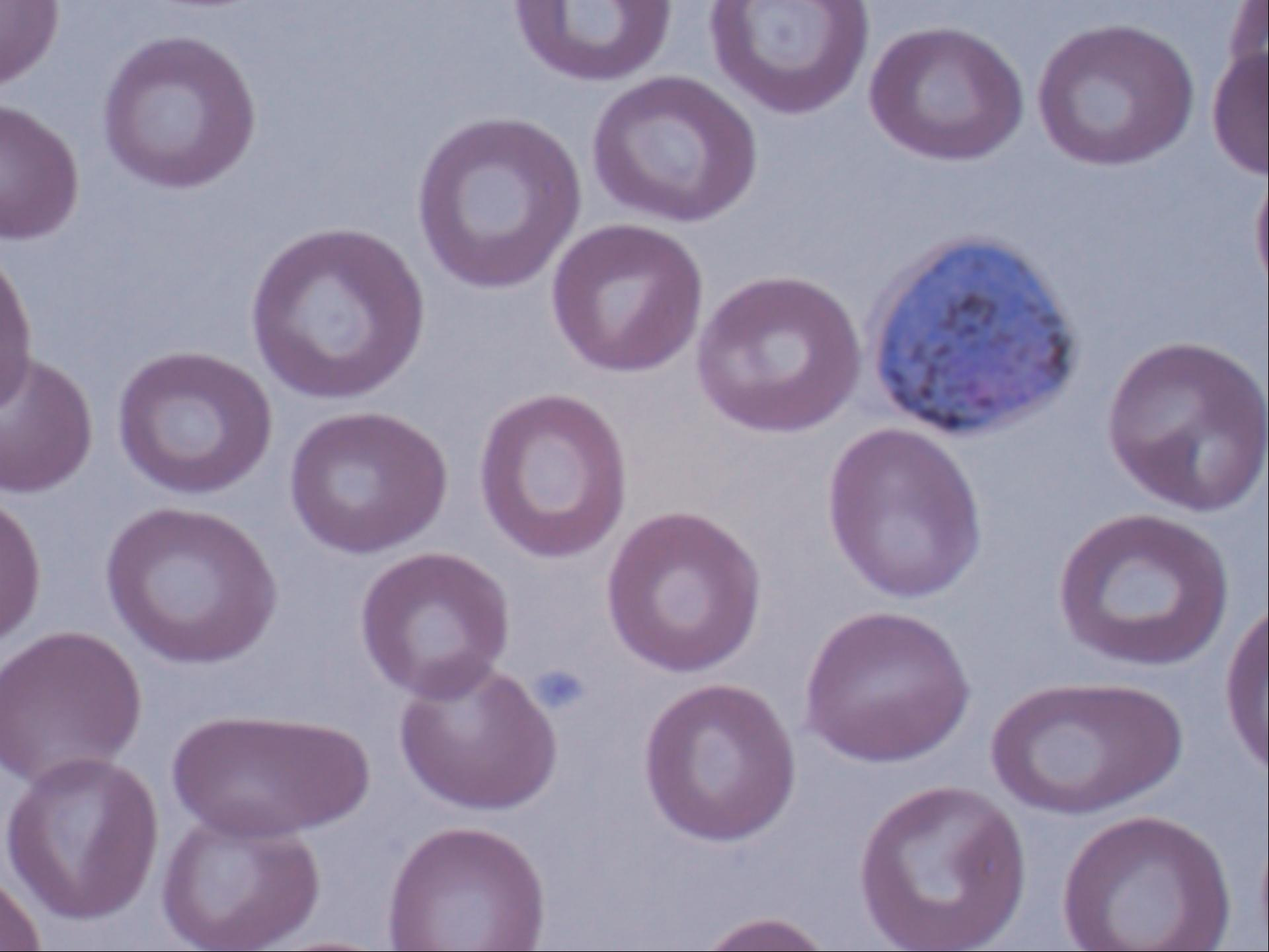Infected: (855, 236, 1084, 435)
Uninfected: (256, 232, 421, 393), (861, 790, 1023, 948), (421, 123, 579, 283), (1109, 344, 1263, 504), (110, 510, 272, 660), (830, 431, 976, 593), (1061, 518, 1221, 664), (701, 283, 856, 433), (808, 615, 966, 762), (991, 687, 1173, 811), (595, 78, 751, 222), (174, 720, 364, 838), (609, 515, 755, 667), (9, 764, 153, 916), (482, 398, 622, 552), (647, 688, 791, 837), (108, 40, 252, 186), (553, 226, 699, 369), (363, 553, 507, 696), (1039, 28, 1189, 163), (1063, 819, 1221, 947), (291, 414, 441, 548), (868, 30, 1021, 159), (121, 355, 268, 488), (403, 678, 553, 808), (3, 636, 137, 780), (163, 830, 314, 949), (391, 832, 537, 951), (714, 2, 867, 111)
